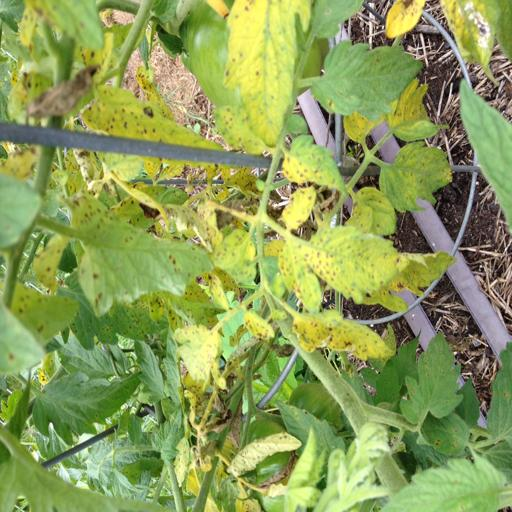Bacterial Spot: (459, 6, 499, 36)
Healthy: (42, 369, 132, 448), (459, 83, 512, 215), (411, 449, 512, 512), (418, 328, 456, 433), (335, 57, 406, 109), (312, 464, 385, 512)
Late Blight: (39, 71, 94, 126)
Leaf Mold: (228, 8, 310, 138), (213, 224, 281, 348), (298, 299, 383, 371), (147, 283, 208, 365), (278, 148, 331, 228), (370, 0, 429, 40)
Septorial Leaf Spot: (17, 291, 56, 342), (71, 181, 102, 226), (236, 40, 268, 83), (387, 250, 412, 295), (89, 271, 110, 311), (37, 247, 57, 289), (21, 8, 49, 36), (132, 92, 157, 120), (159, 248, 185, 271)
